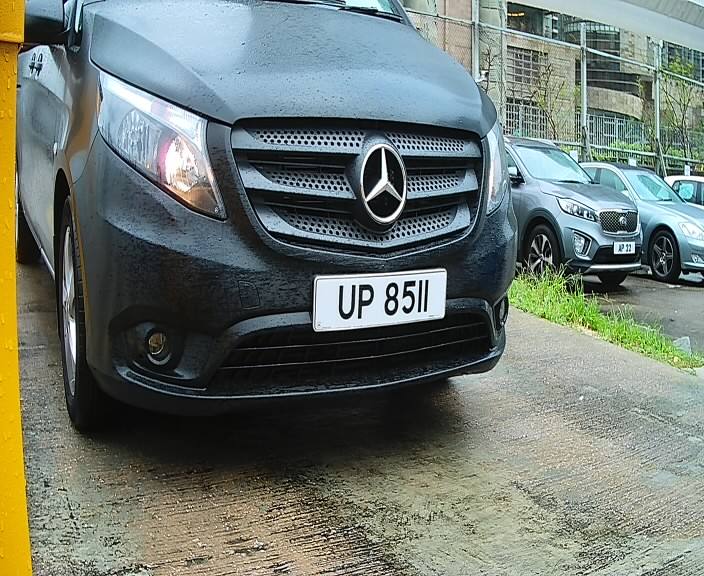License Plate: (305, 263, 457, 339)
